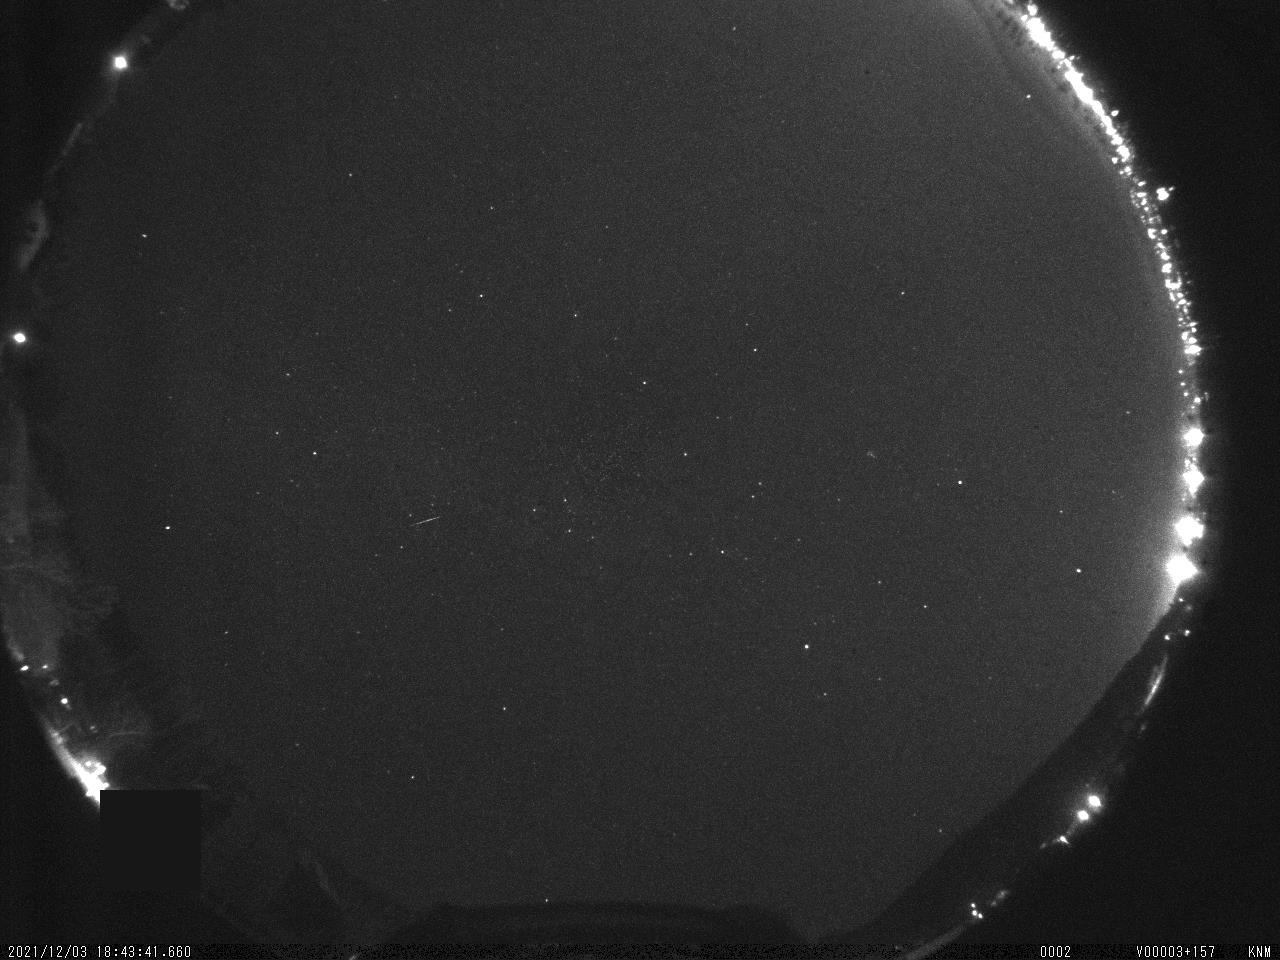meteor: (376, 503, 500, 532)
